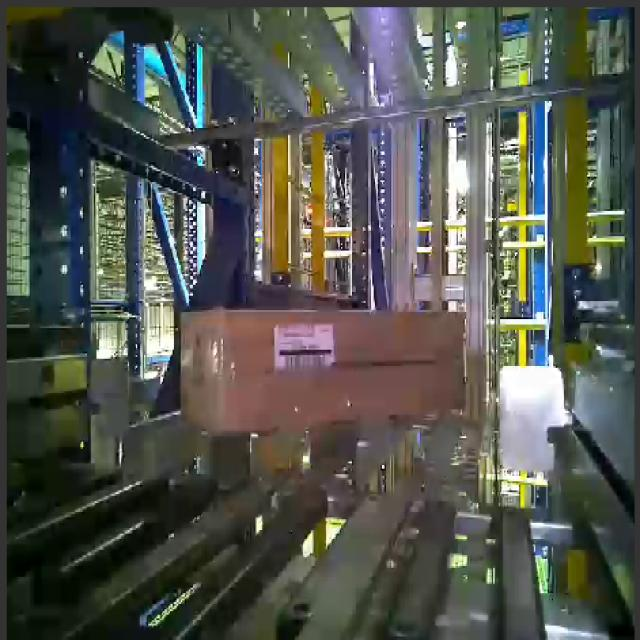box: (216, 309, 465, 432)
